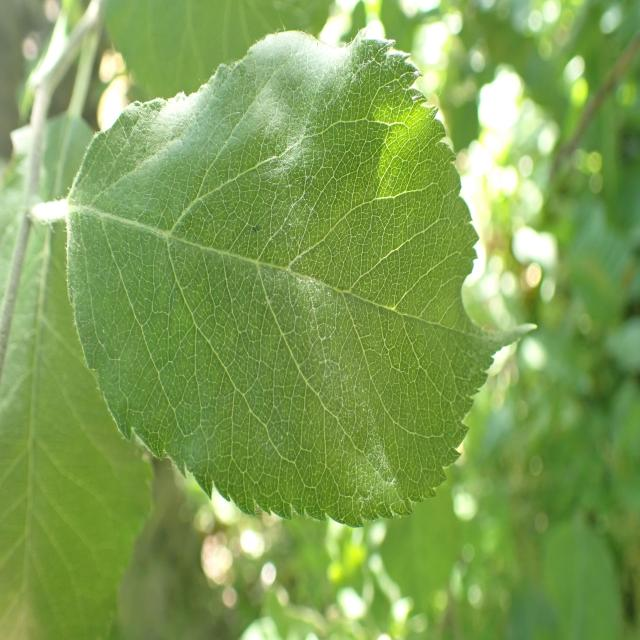healthy: (65, 29, 536, 528), (0, 115, 154, 640)
